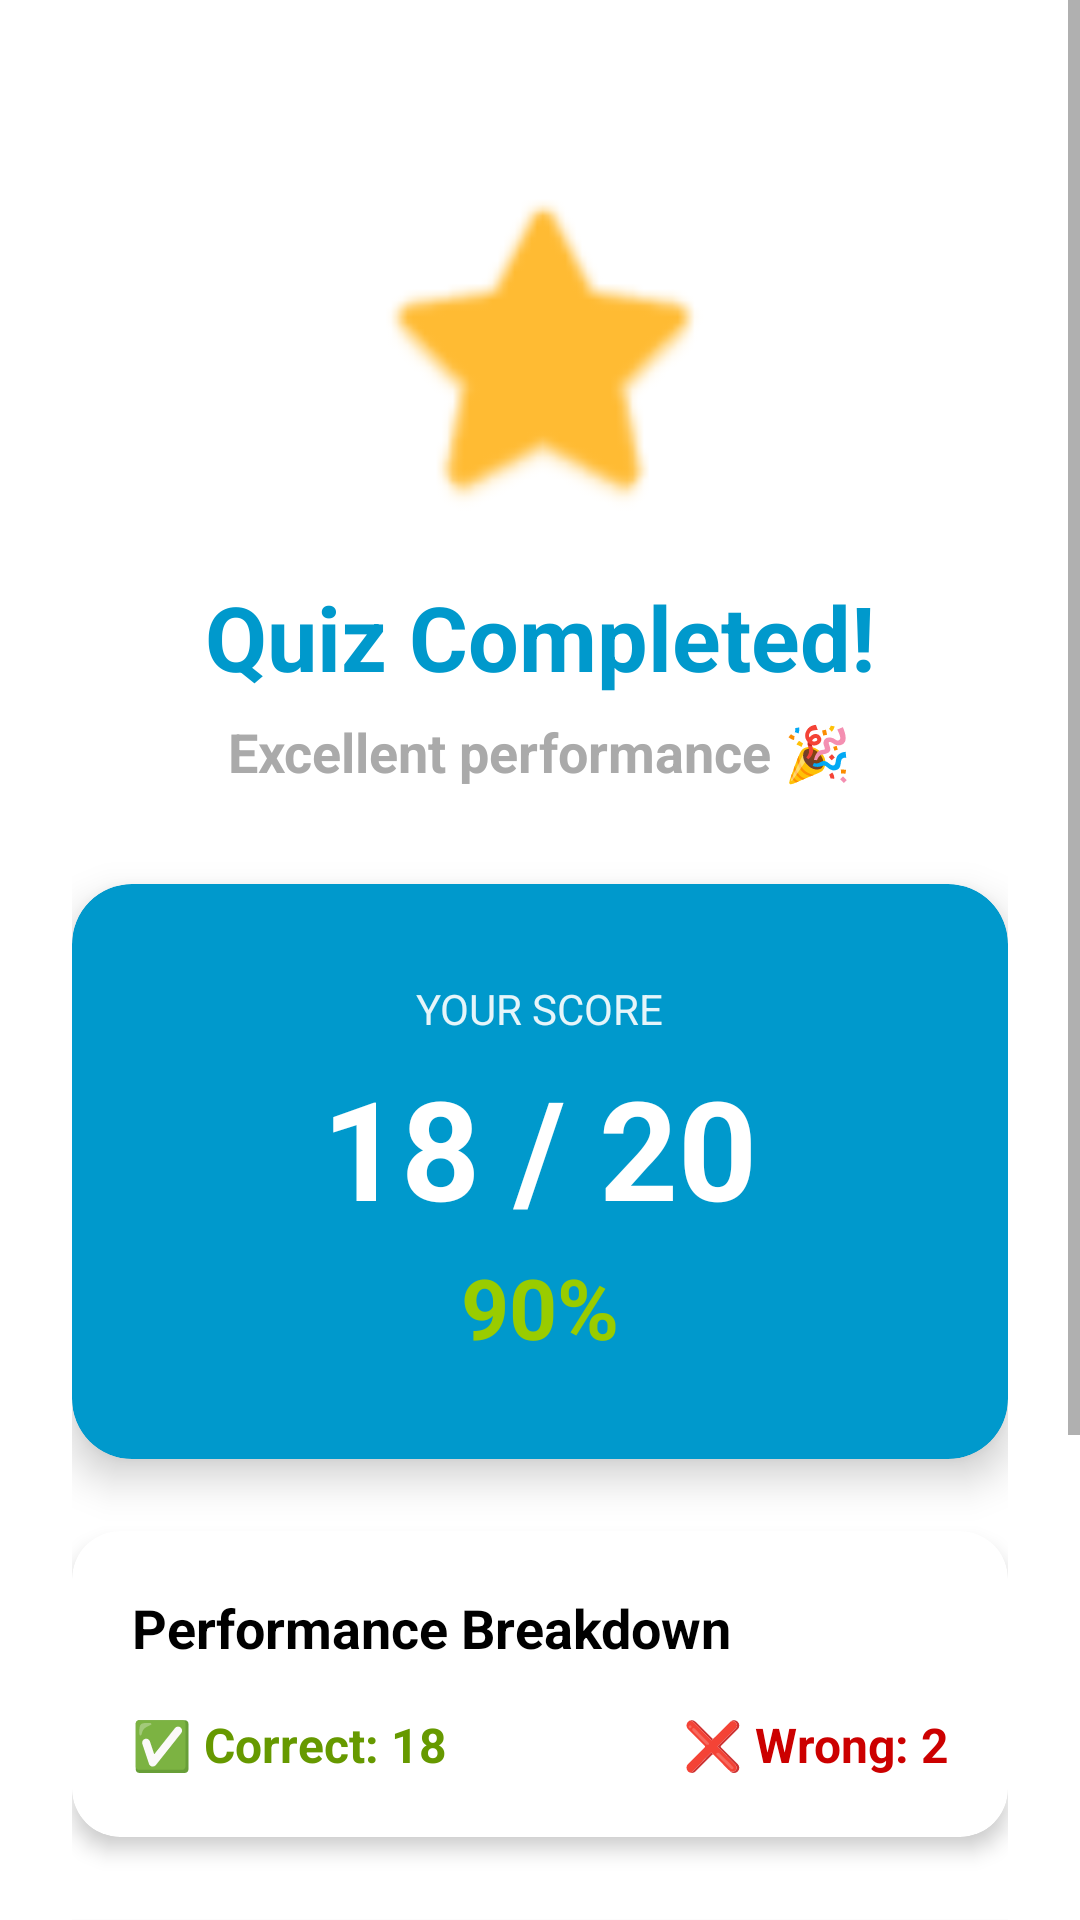

Icon bounding boxes for this 1080 x 1920 phone screenshot, format bbox(x1, y1, x2, y2):
star on: bbox(393, 205, 693, 497)
